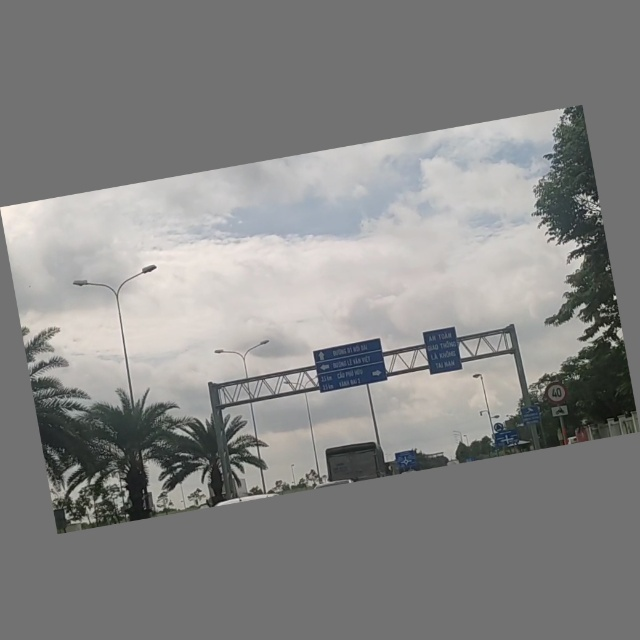P.127*40: (544, 382, 568, 407)
S.505a*Xe may: (549, 403, 571, 420)
